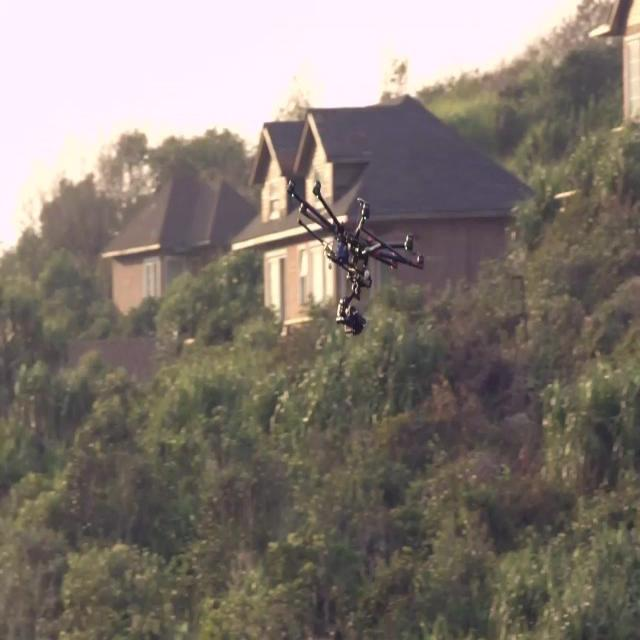UAV: (286, 178, 424, 338)
